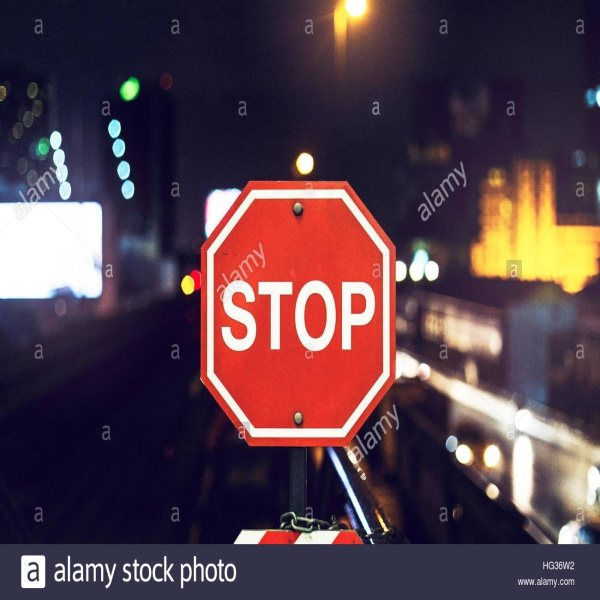stop: (203, 184, 398, 440)
